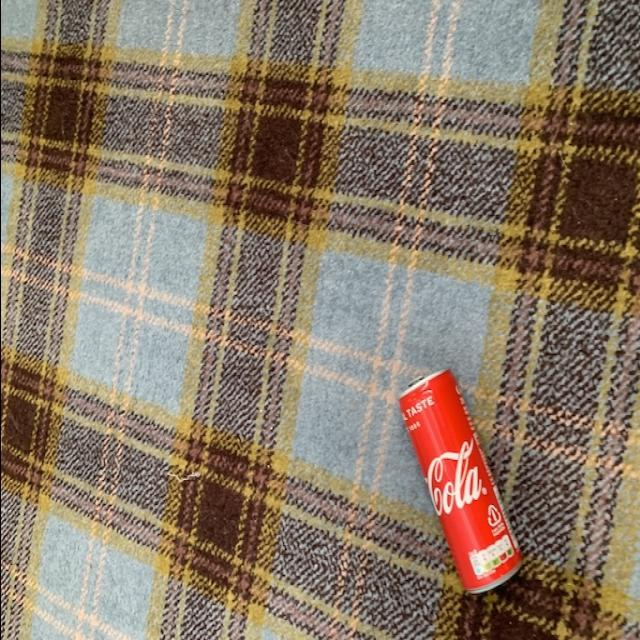Aluminum Can: (394, 361, 524, 599)
